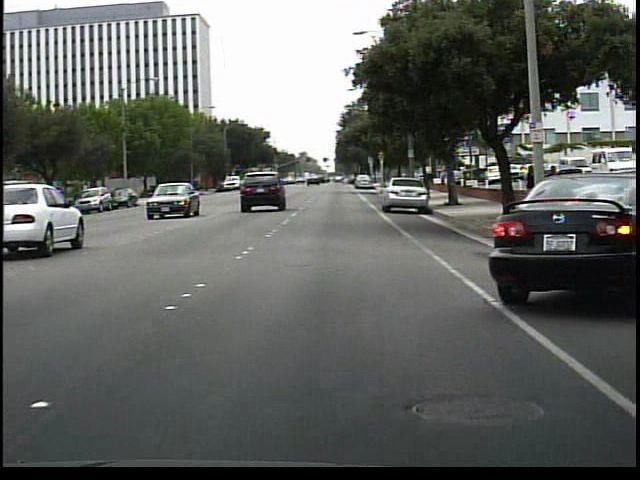person: (525, 160, 545, 219), (543, 158, 565, 208)
